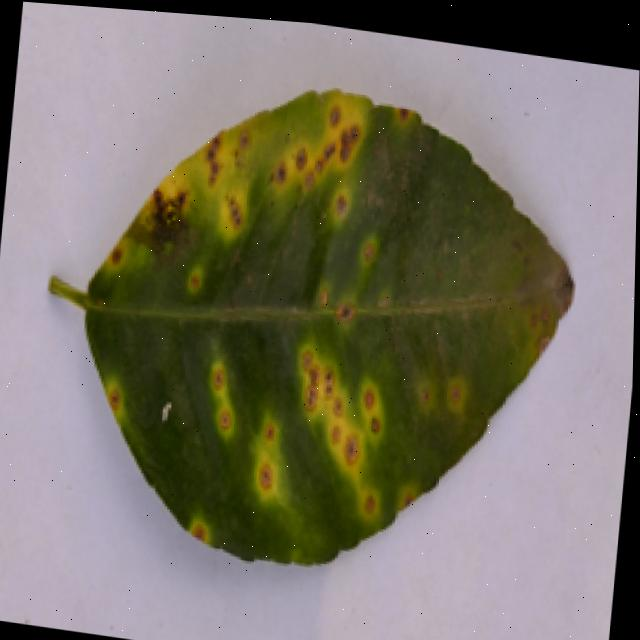canker: (52, 89, 570, 561), (94, 33, 431, 324), (176, 308, 495, 543), (89, 363, 133, 425), (185, 500, 223, 561)
